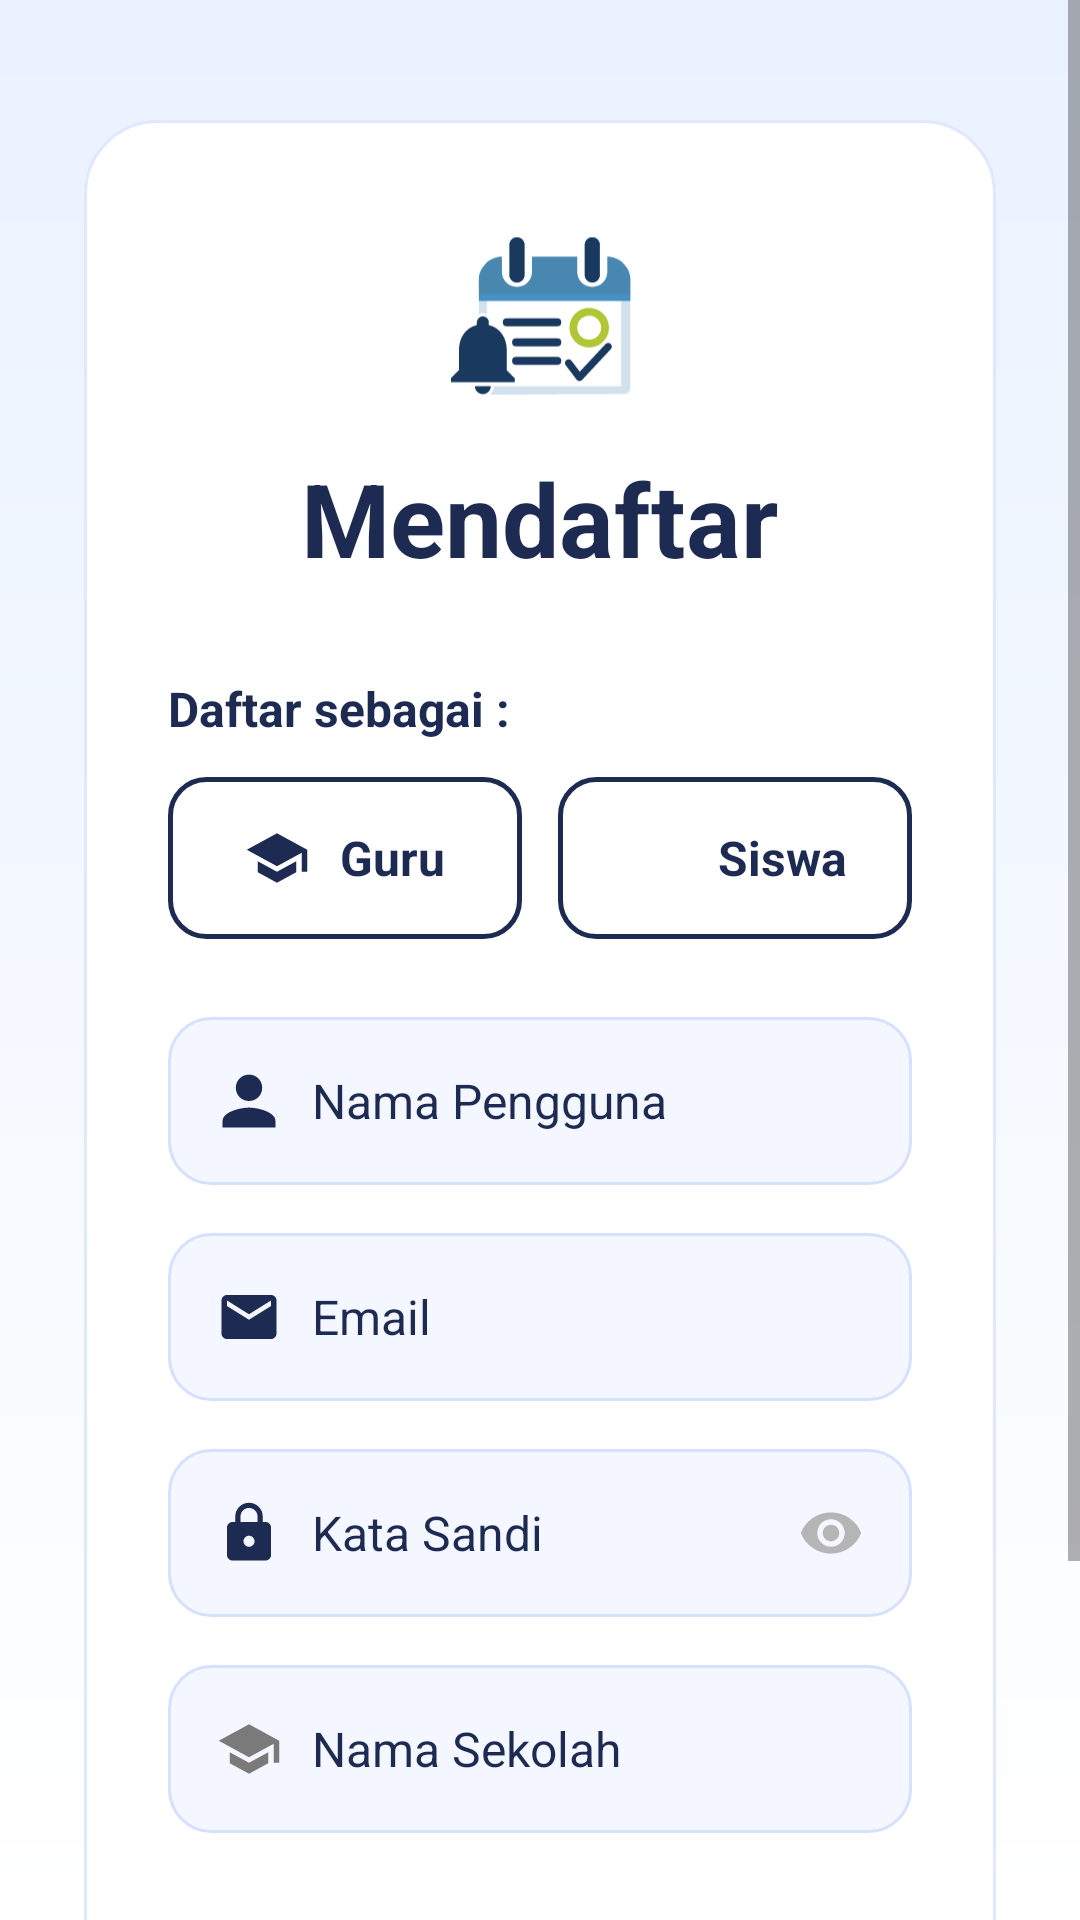

Named icons in this screenshot (1080px x 1920px) and their bounding boxes, BBox(x1, y1, x2, y2):
eye: BBox(801, 1512, 861, 1554)
lock: BBox(227, 1502, 271, 1561)
school: BBox(219, 1724, 280, 1774)
teacher: BBox(247, 833, 308, 883)
user: BBox(222, 1074, 276, 1128)
